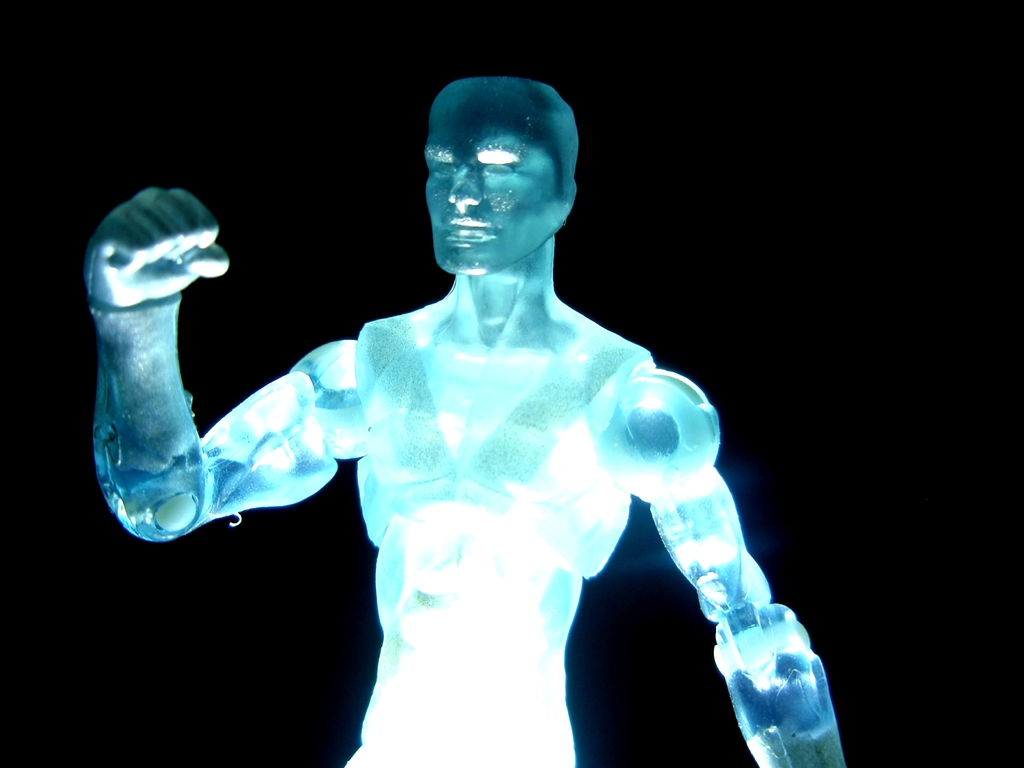Human-face: (420, 82, 554, 276)
